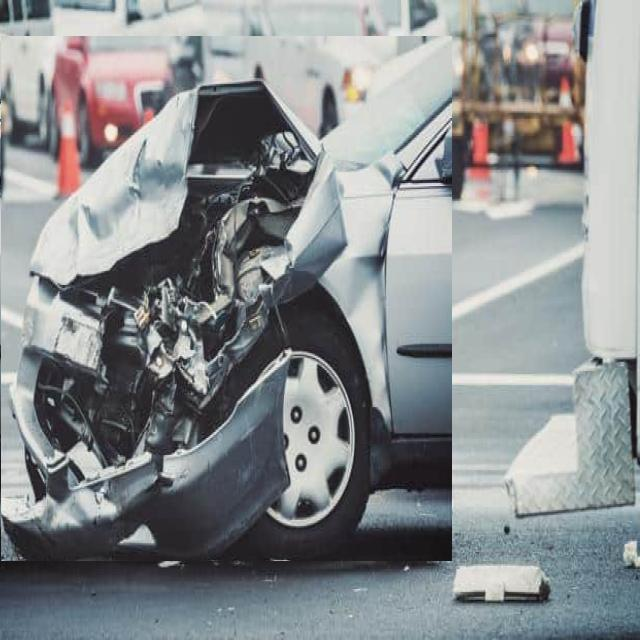accident: (1, 36, 451, 561)
